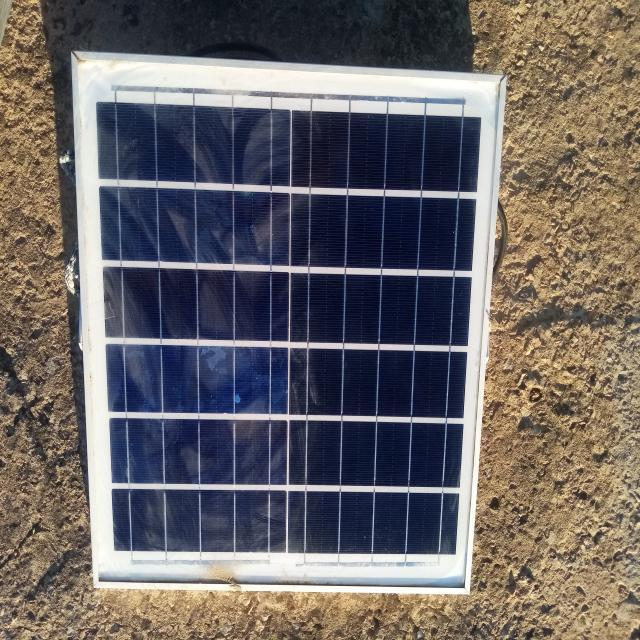faulty: (77, 59, 506, 593)
